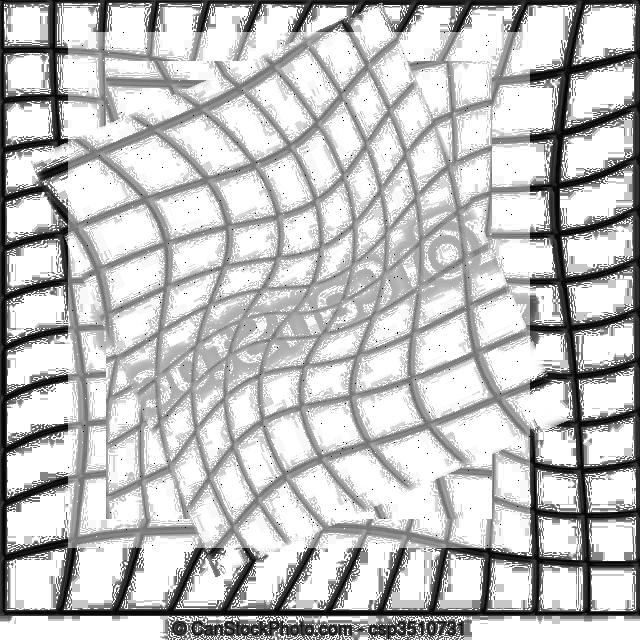anomaly-fence: (68, 32, 530, 548)
